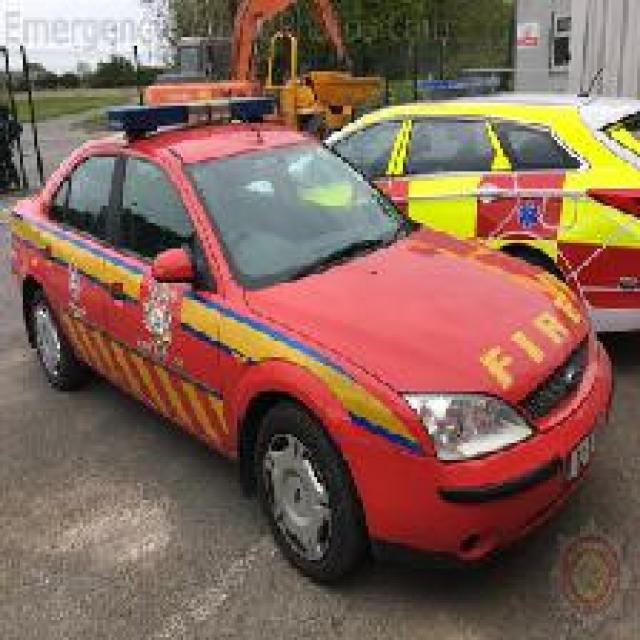Car: (317, 74, 637, 337)
Fire-truck: (6, 88, 614, 583)
